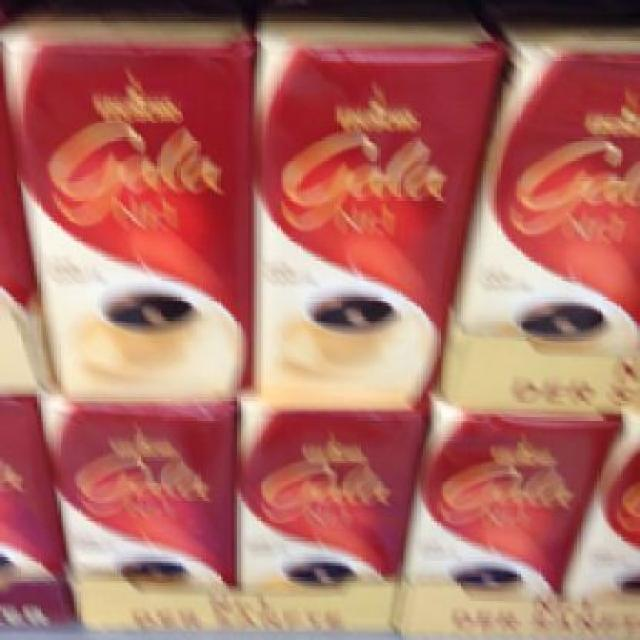Coffee: (251, 6, 503, 403), (0, 7, 255, 398), (460, 11, 634, 352), (402, 397, 618, 586), (39, 394, 232, 586), (237, 400, 420, 586)
